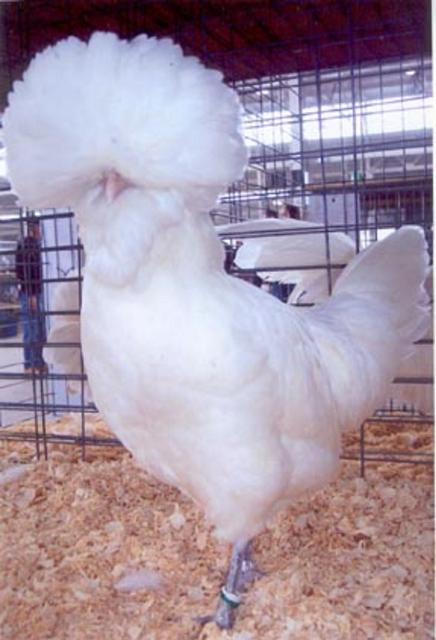Chicken: (0, 33, 428, 621)
